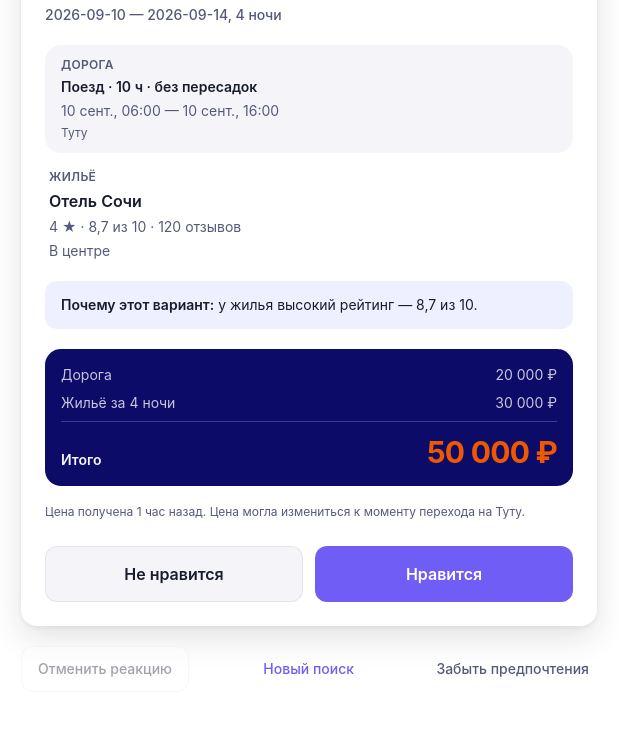
Test: swipe feed › F26: реакция переставляет ещё не показанные карточки
(page scrolled)
Click the button "Нравится": (444,574) [315,546,573,602]
(page scrolled)
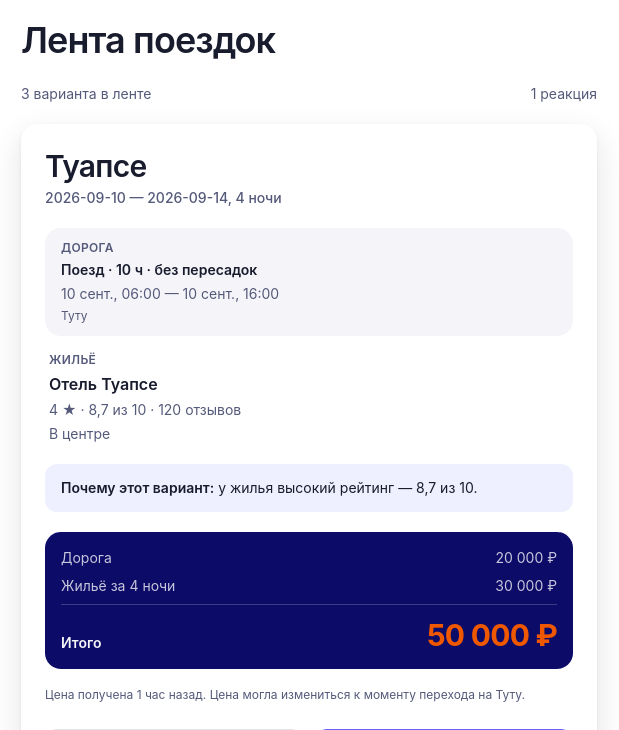
Expected: the heading "Туапсе" is shown, [45,148,146,184]
